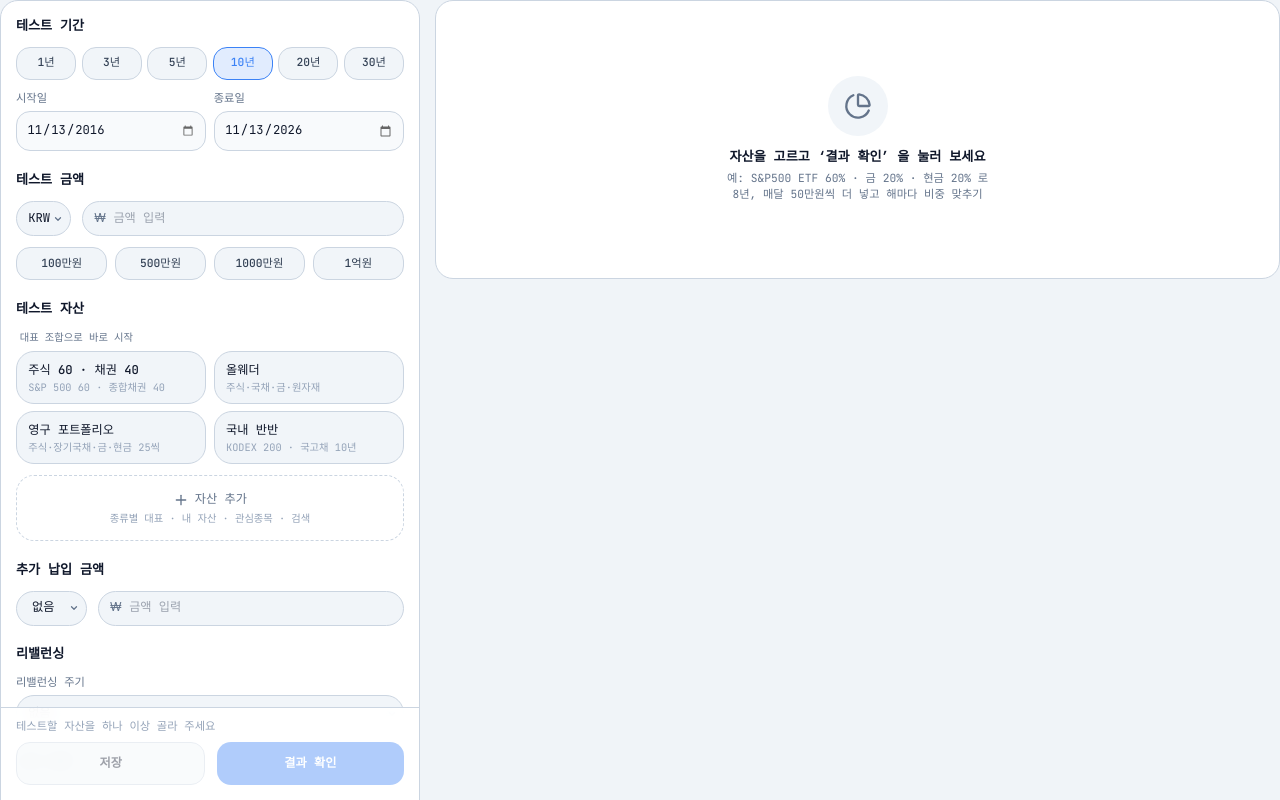
Test: 자산을 담는다 › + 를 누르면 검색이 열리고, 고르면 목록에 붙는다
Click the button labelled "자산 추가 종류별 대표 · 내 자산 · 관심종목 · 검색": (210, 508) [16,475,404,541]
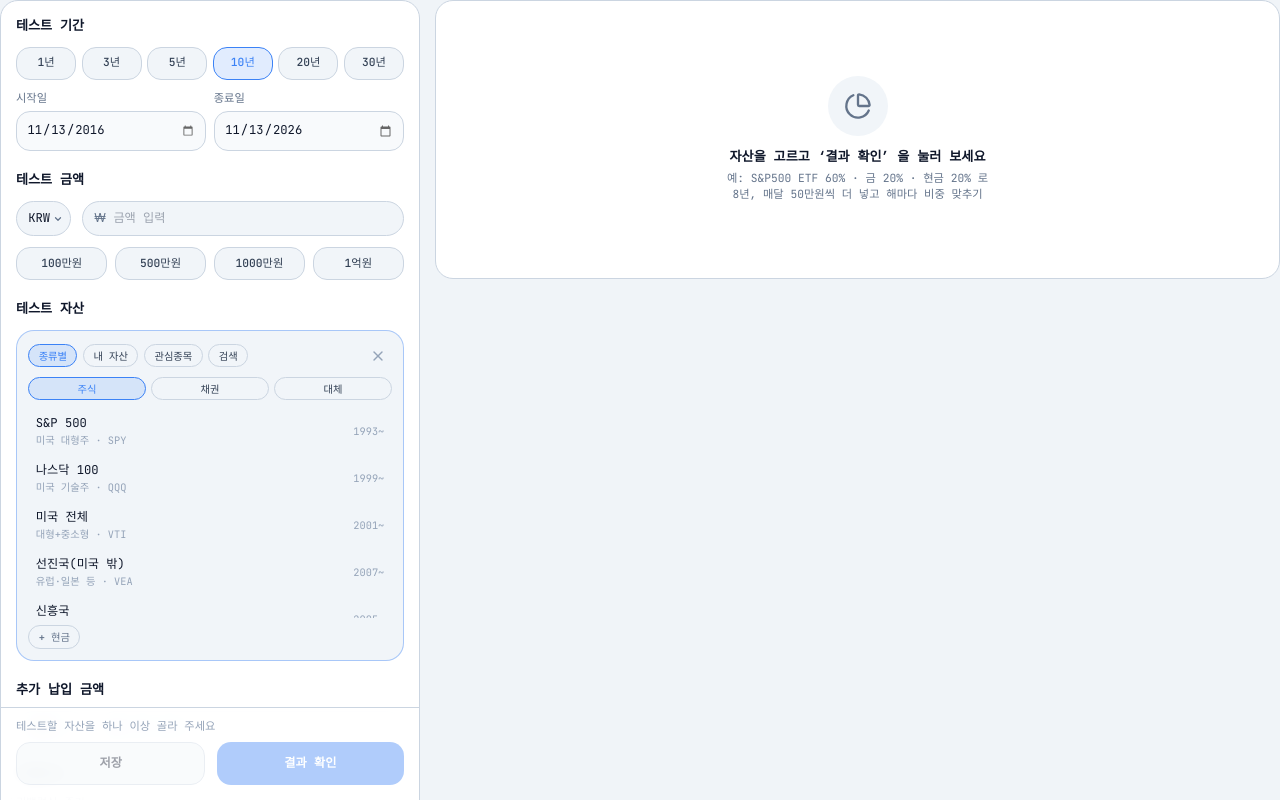
Click the button with aria-label "검색해서": (228, 356) [208,344,248,367]
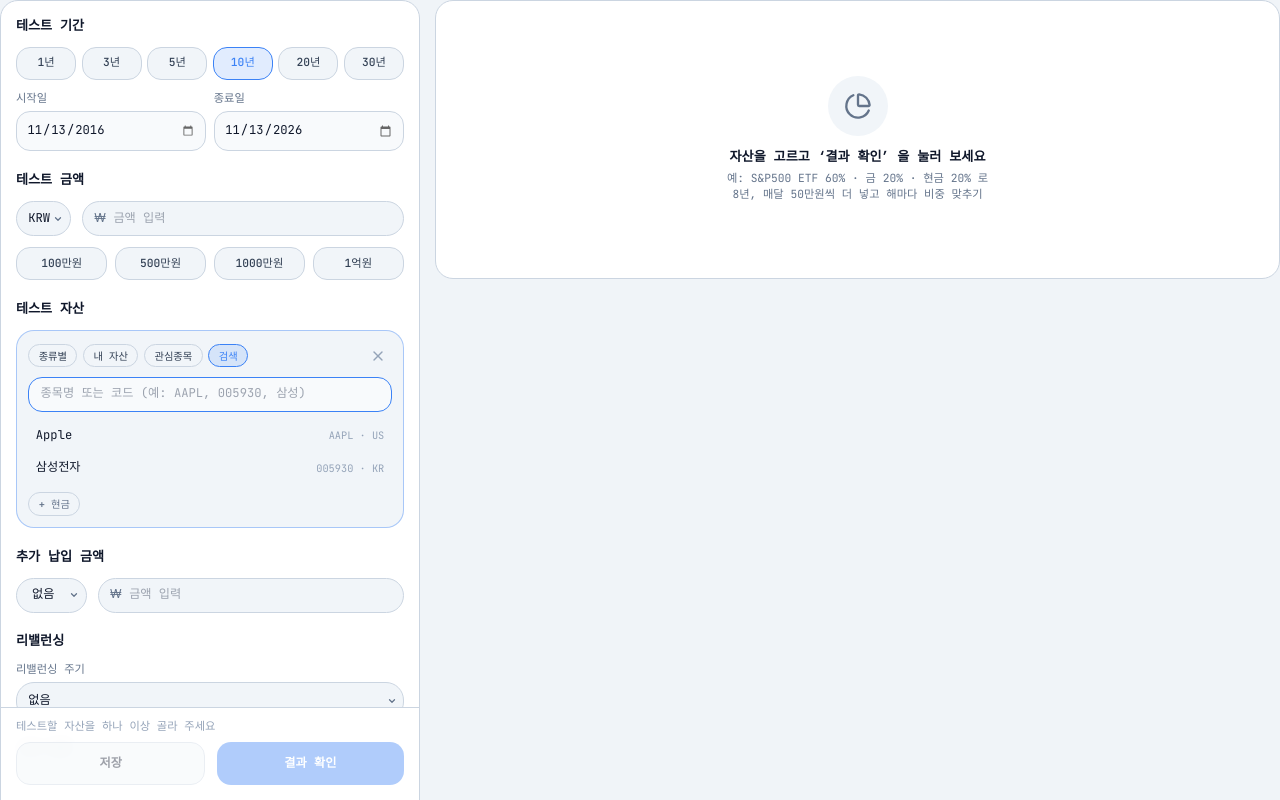
Click the button with aria-label "Apple 담기": (54, 435) [28,419,392,452]
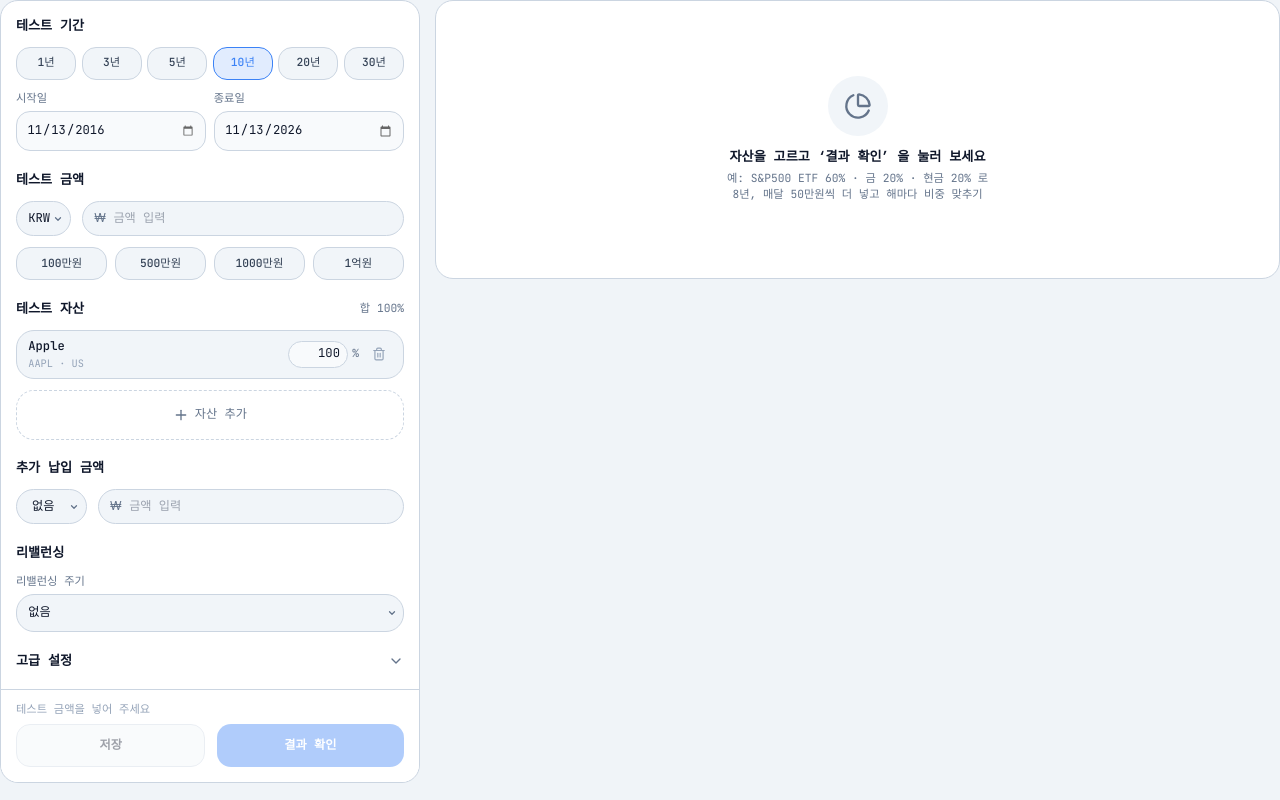
expect the number field named "Apple 비중 (%)" is shown: met, box [288,340,348,368]
